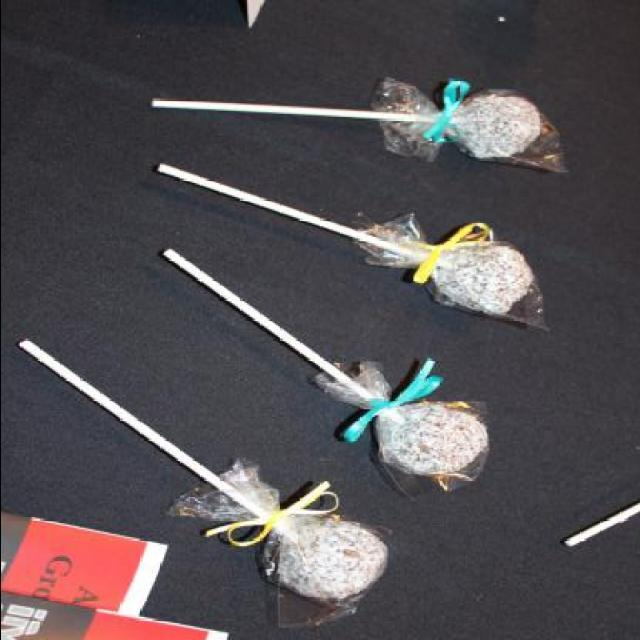Candy: (238, 82, 554, 610), (410, 235, 536, 317), (374, 398, 492, 476), (438, 98, 546, 156)
